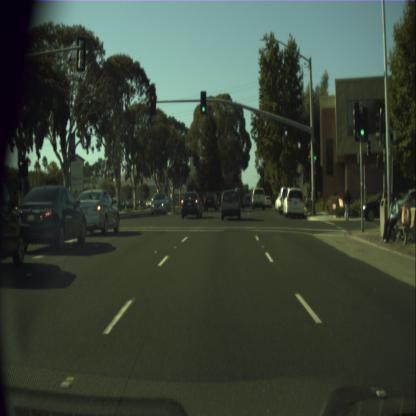Green: (358, 113, 366, 136), (200, 90, 206, 113), (313, 144, 317, 160)
RedLeft: (150, 92, 156, 115), (18, 159, 24, 177)
